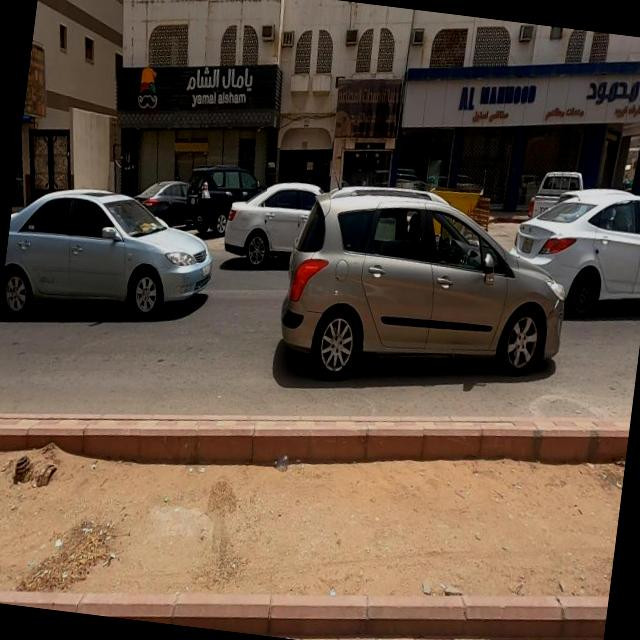debris: (284, 40, 441, 178)
